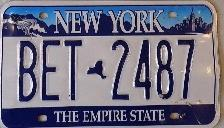2: (110, 39, 134, 101)
4: (134, 39, 154, 102)
7: (176, 38, 196, 102)
8: (154, 39, 175, 101)
B: (16, 38, 39, 103)
E: (41, 38, 63, 102)
T: (63, 38, 84, 102)
